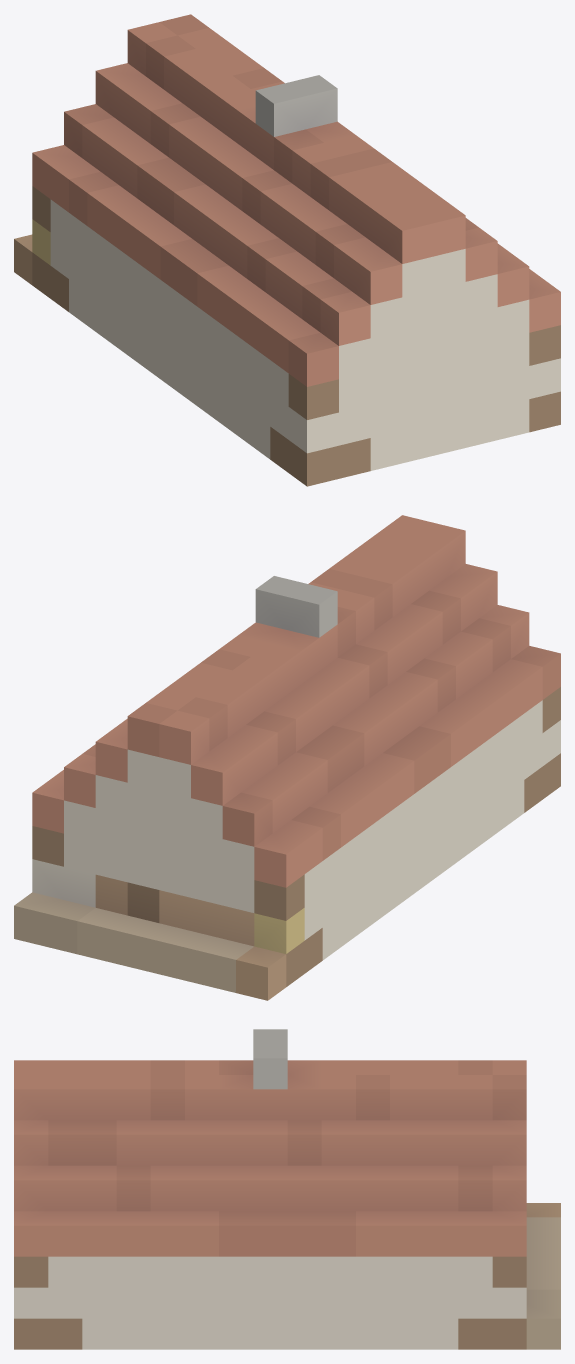
Rendered from sailmaker.lite.glb.
3 renders of one model, top to bottom at view 1: azimuth 30°, elevation 25°; view 2: azimuth 150°, elevation 25°; view 3: azimuth 270°, elevation 25°, orthographic. The views are drawn at different scales.
Visible parts, largest first — view 1: sailmaker; view 2: sailmaker; view 3: sailmaker.
Part boxes in pixels (x1=…): sailmaker: x1=14, y1=14, x2=560, y2=486; sailmaker: x1=14, y1=515, x2=560, y2=1000; sailmaker: x1=14, y1=1029, x2=560, y2=1349.
Bounding box in the file's own units: 4 × 4 × 8.
